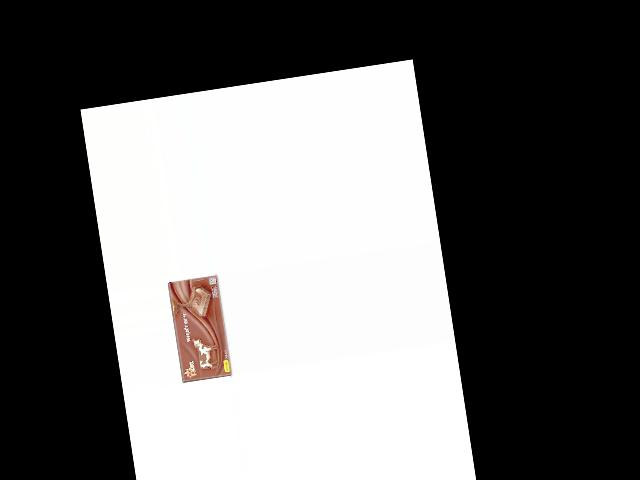chocolate: (167, 276, 233, 385)
